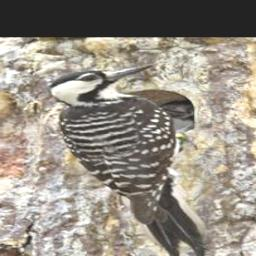Woodpecker: (47, 64, 212, 256)
